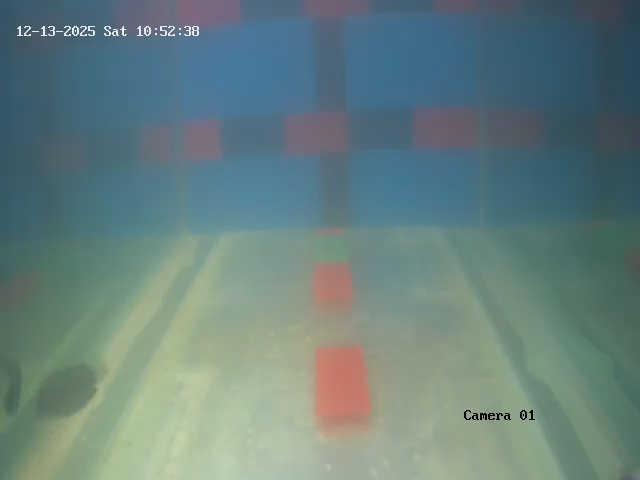fish: (34, 346, 108, 429)
